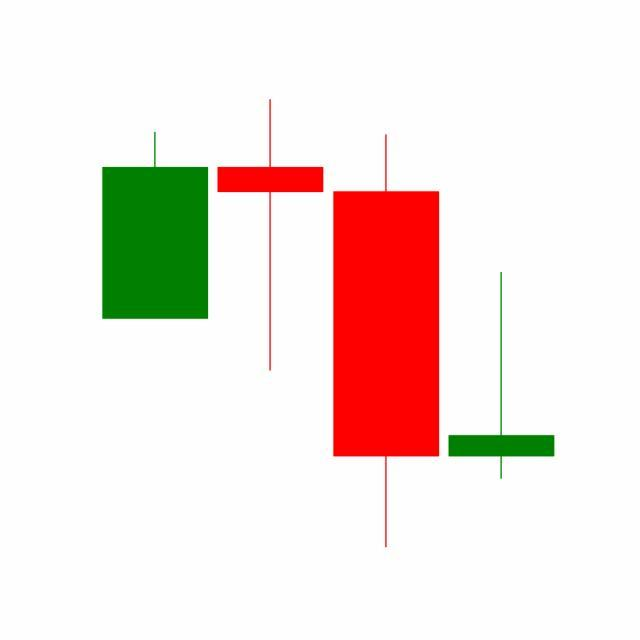Spinning Top: (444, 270, 560, 482)
